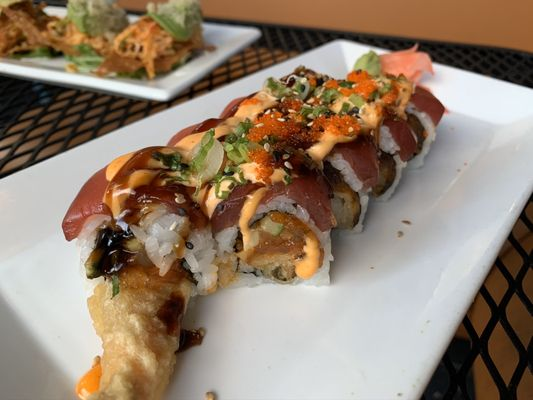curry: (0, 1, 532, 400)
sandwich: (65, 52, 453, 400)
